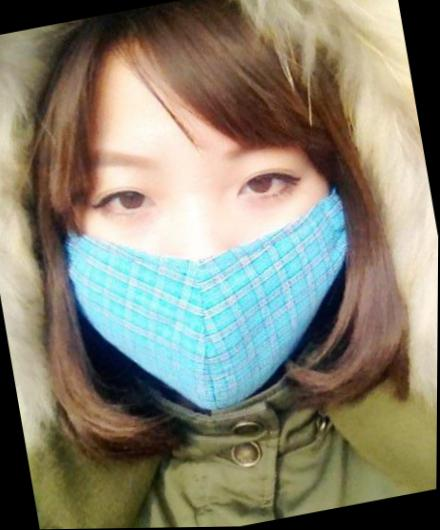WRONG: (41, 82, 380, 443)
